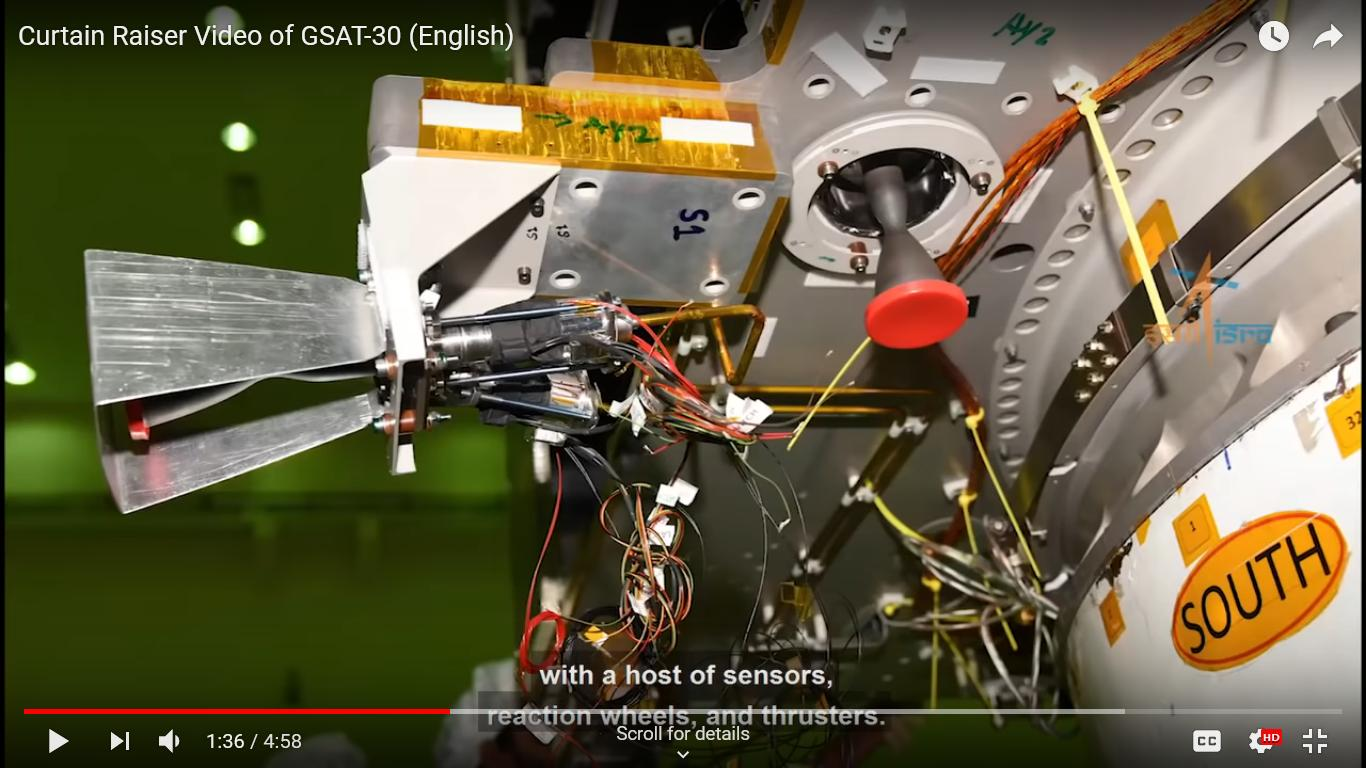thruster: (860, 166, 972, 353)
